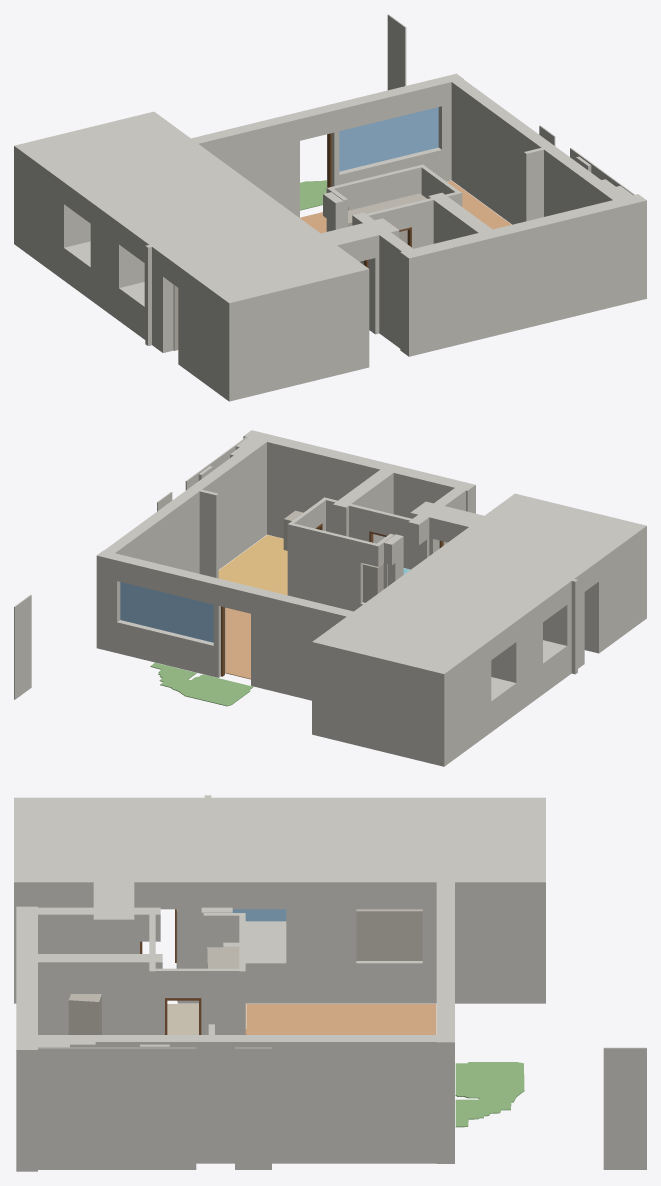
The picture shows the model from 3 angles, top to bottom: view 1: azimuth 30°, elevation 25°; view 2: azimuth 150°, elevation 25°; view 3: azimuth 270°, elevation 25°; orthographic projection. The views are drawn at different scales.
Visible parts, largest first — view 1: walls, window_2, floor_0_Living_Room, furniture_1_closet, floor_5_Outdoor; view 2: walls, window_2, floor_2_Kitchen, floor_5_Outdoor, floor_0_Living_Room, furniture_1_closet; view 3: walls, floor_0_Living_Room, floor_5_Outdoor, furniture_0_closet, furniture_3_closet, floor_1_Entry, furniture_1_closet, window_6.
Part boxes in pixels (x1,y1,x2,y2): walls: [14, 14, 646, 401]; window_2: [339, 107, 438, 171]; floor_0_Living_Room: [299, 180, 511, 233]; furniture_1_closet: [348, 193, 426, 243]; floor_5_Outdoor: [300, 180, 326, 210]; walls: [14, 430, 646, 766]; window_2: [120, 582, 213, 642]; floor_2_Kitchen: [218, 535, 287, 595]; floor_5_Outdoor: [150, 662, 253, 706]; floor_0_Living_Room: [225, 608, 250, 679]; furniture_1_closet: [363, 563, 383, 602]; walls: [14, 795, 646, 1171]; floor_0_Living_Room: [245, 1004, 436, 1034]; floor_5_Outdoor: [455, 1062, 524, 1127]; furniture_0_closet: [356, 909, 422, 960]; furniture_3_closet: [68, 994, 101, 1034]; floor_1_Entry: [167, 1004, 245, 1034]; furniture_1_closet: [207, 946, 239, 968]; window_6: [232, 909, 286, 921].
Size of the model in its own units: 12.14 by 2.72 by 12.74.
